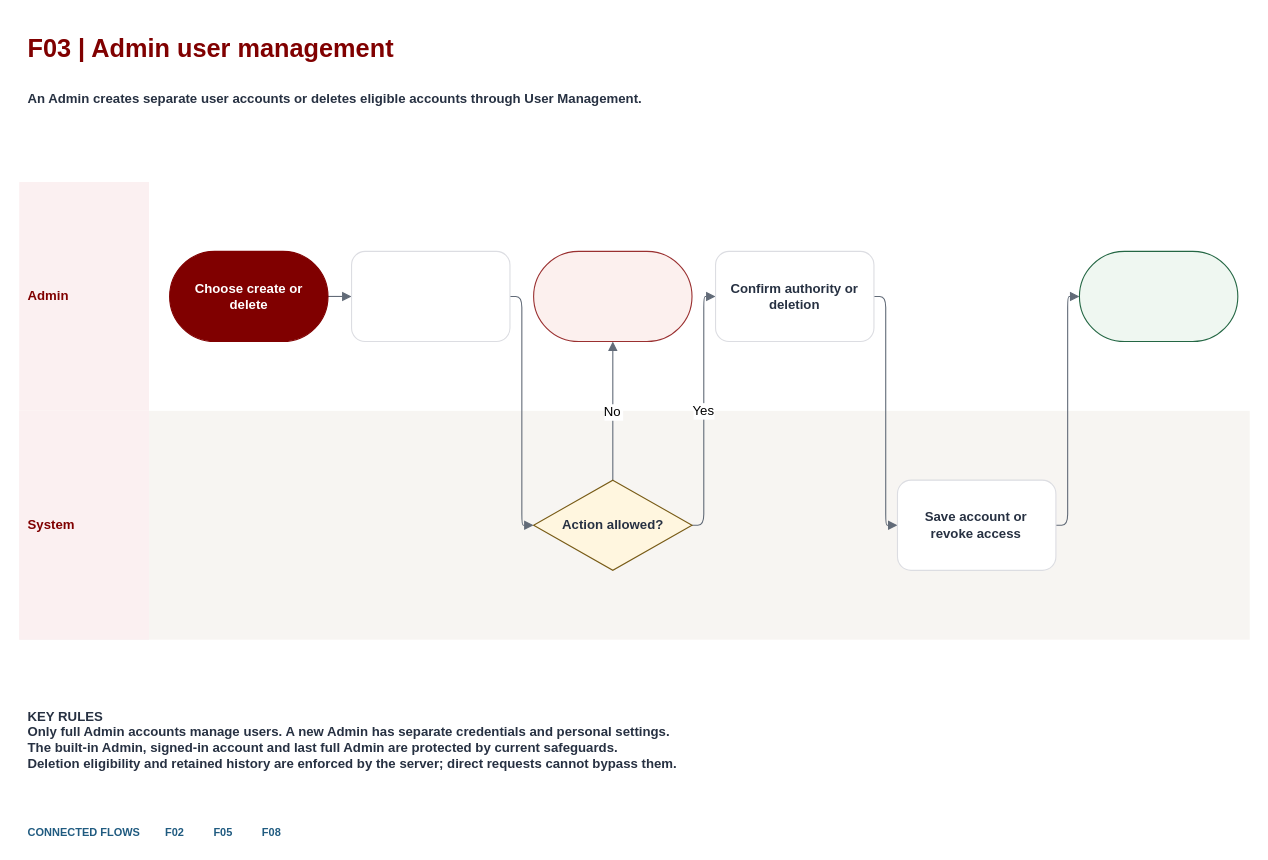
Some shapes in this 1268 by 860 pixel diagram are drawn without their labels. The shapes that lost their labels are listed below. From the top down, each one's box as (x1, y1, x2, y2) in pixels, then its label:
(350, 250, 510, 342): Enter user details or select account
(533, 250, 692, 342): Read protection or validation reason
(1078, 250, 1238, 342): Review refreshed directory
